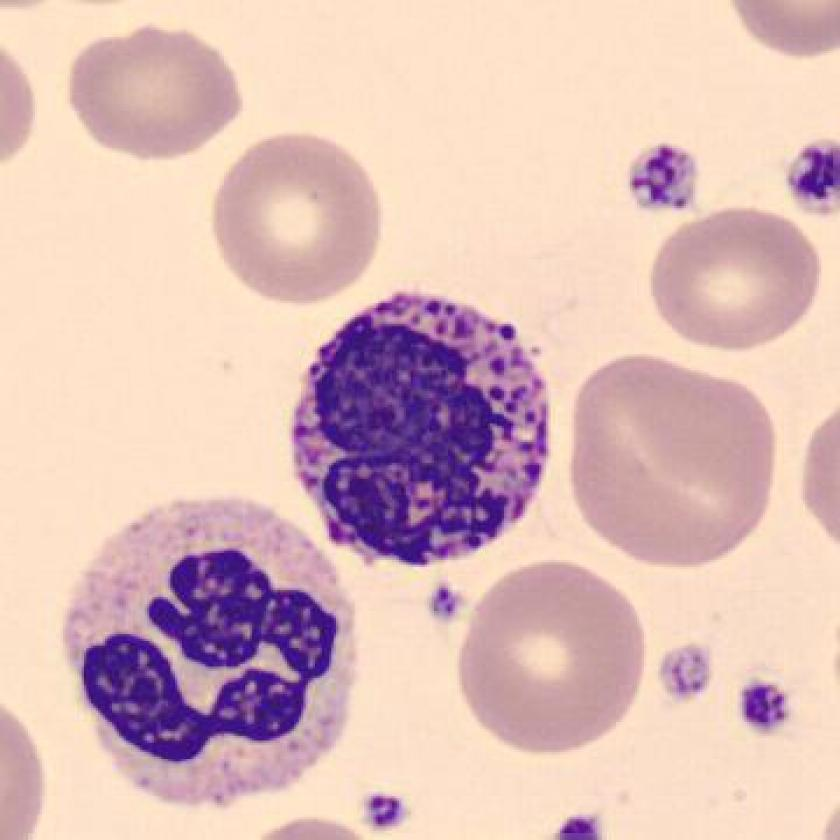basophil: (59, 490, 372, 807), (293, 290, 568, 573)
